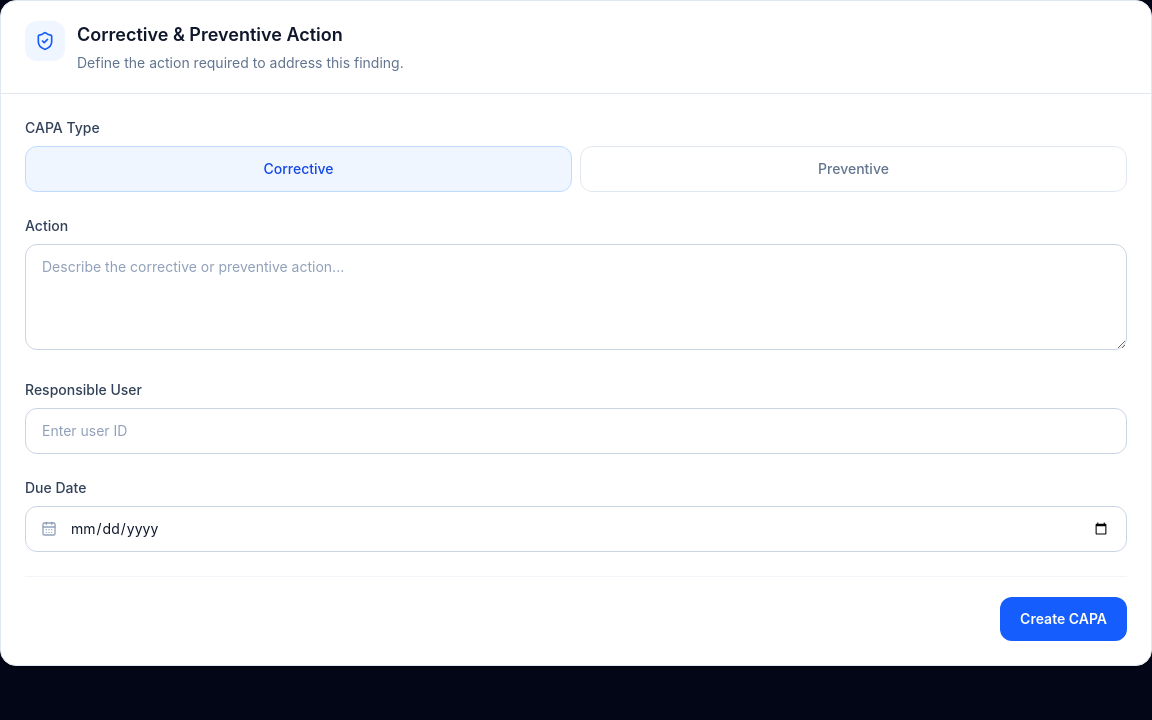
CapaForm › creates a preventive CAPA successfully
Click the button "Preventive".
click(854, 169)  # box [580,146,1127,192]
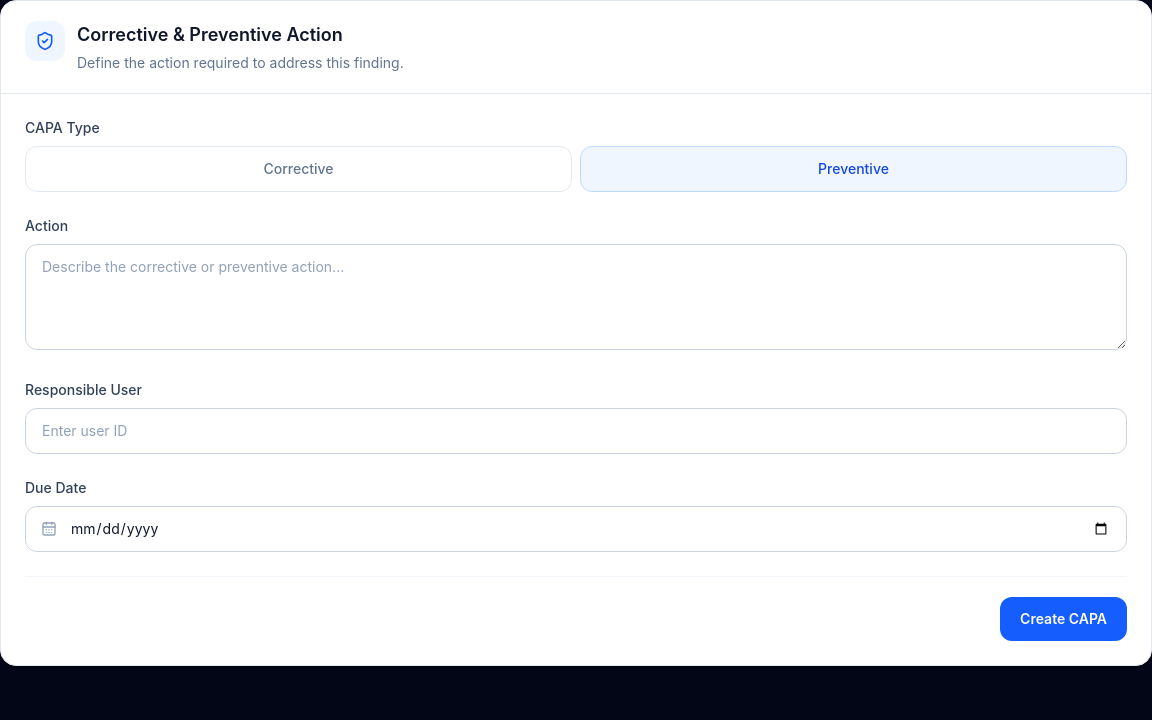
Type "Melakukan inspeksi rutin jalur evakuasi." into the text box labelled "Action".
click(576, 297); type("Melakukan inspeksi rutin jalur evakuasi.")  # box [25,244,1127,350]
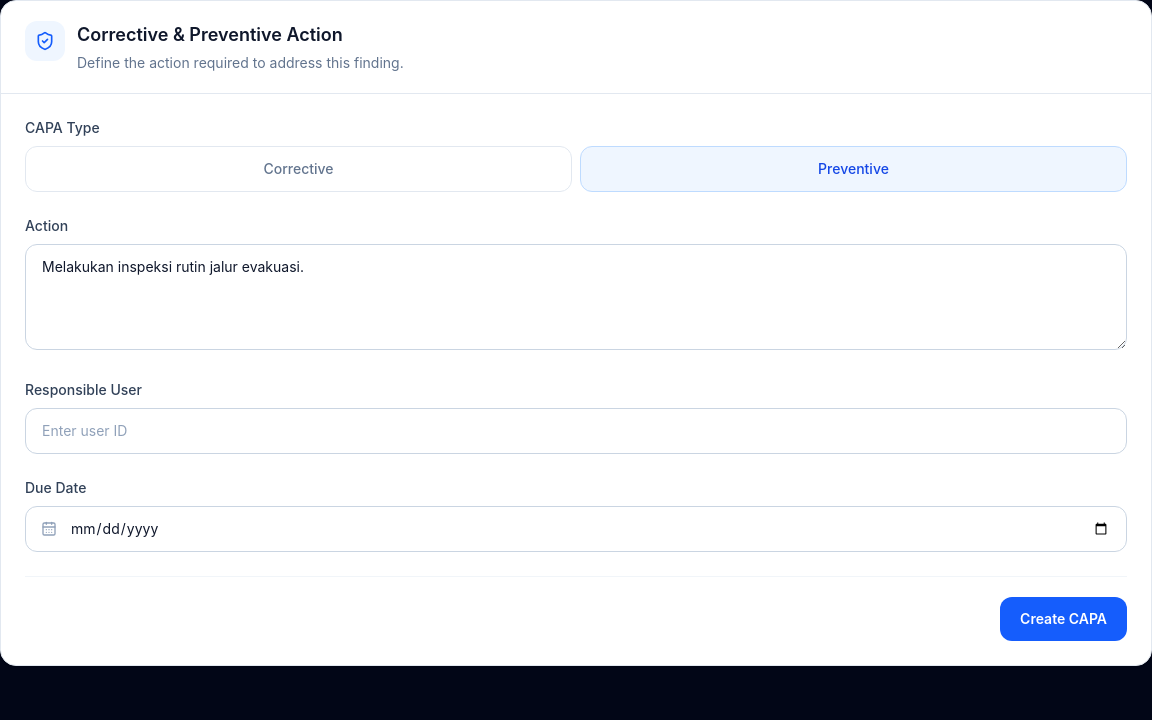
Type "6" into the number field labelled "Responsible User".
click(576, 431); type("6")  # box [25,408,1127,454]
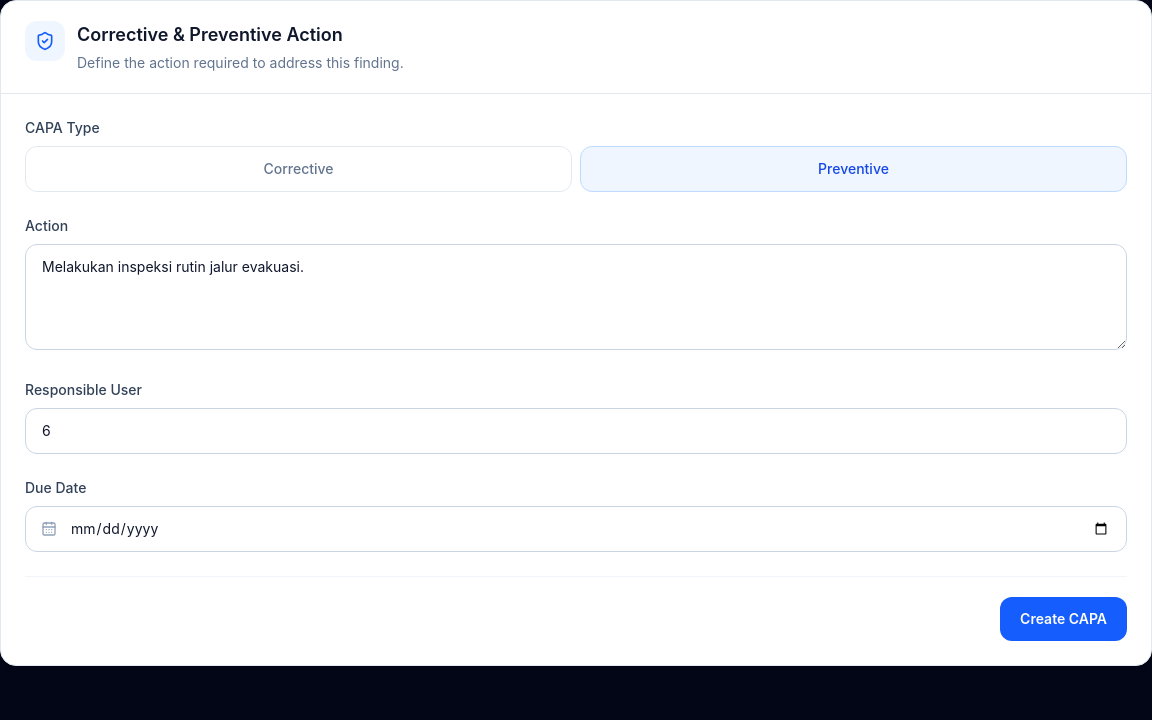
Type "2026-10-15" into the date field labelled "Due Date".
click(576, 529); type("2026-10-15")  # box [25,506,1127,552]
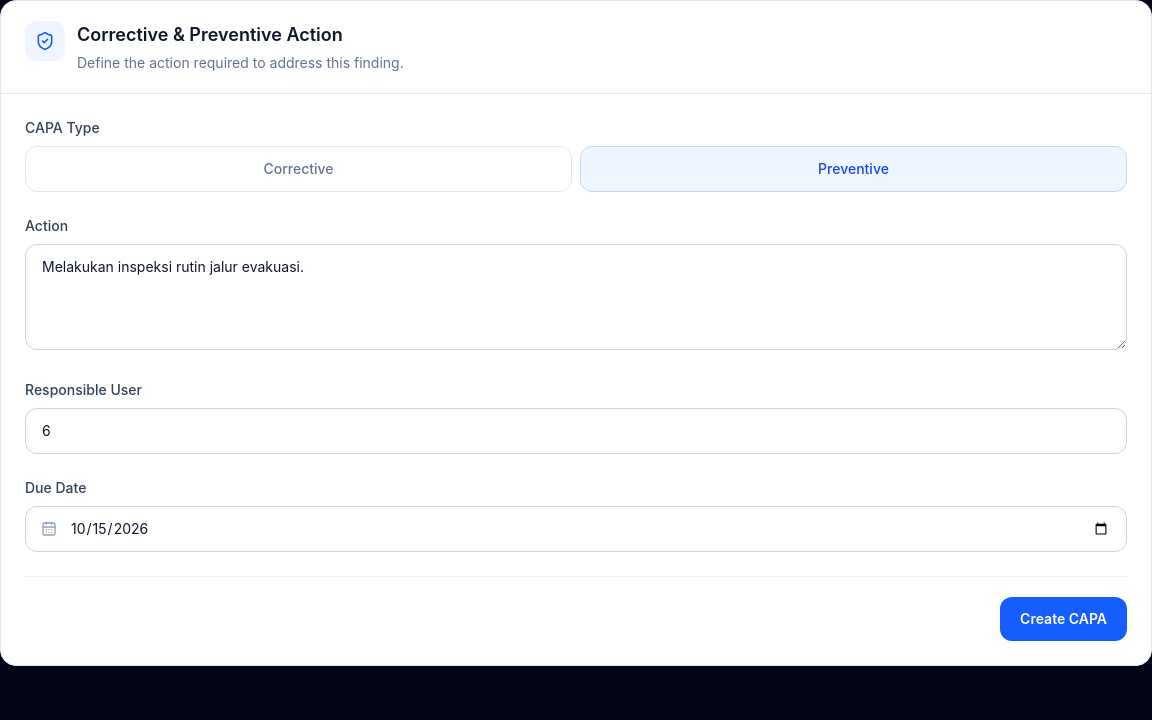
Click the button "Create CAPA".
click(1064, 619)  # box [1000,597,1127,641]
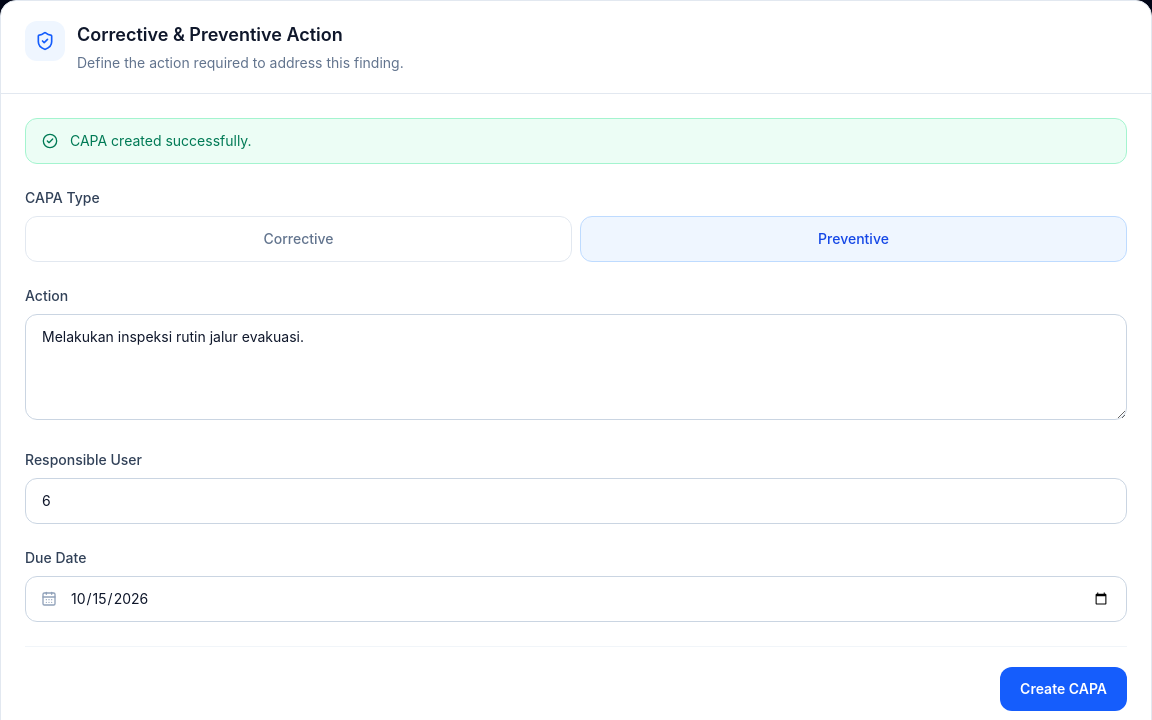
Expected: the message reads "CAPA created successfully.", [70,132,252,149]
